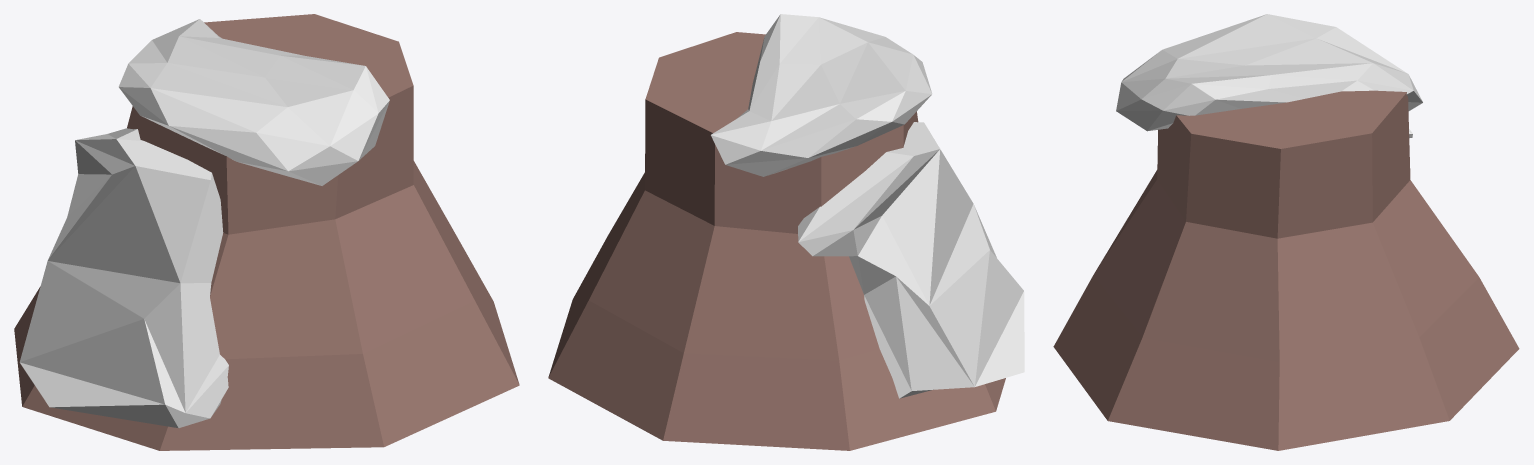
The model's file is TreeStump.fbx.
3 renders of one model, left to right at view 1: azimuth 30°, elevation 25°; view 2: azimuth 150°, elevation 25°; view 3: azimuth 270°, elevation 25°, orthographic. The views are drawn at different scales.
Parts seen in each view (by area): view 1: Cylinder, Icosphere.001, Icosphere; view 2: Cylinder, Icosphere.001, Icosphere; view 3: Cylinder, Icosphere.
Part boxes in pixels (x1,y1,x2,y2): Cylinder: (14, 14, 519, 450); Icosphere.001: (19, 128, 228, 428); Icosphere: (118, 19, 389, 185); Cylinder: (548, 32, 1005, 450); Icosphere.001: (798, 122, 1024, 398); Icosphere: (711, 14, 932, 176); Cylinder: (1053, 90, 1519, 450); Icosphere: (1116, 14, 1422, 131).
Bounding box in the file's own units: 140 × 90.3 × 132.
